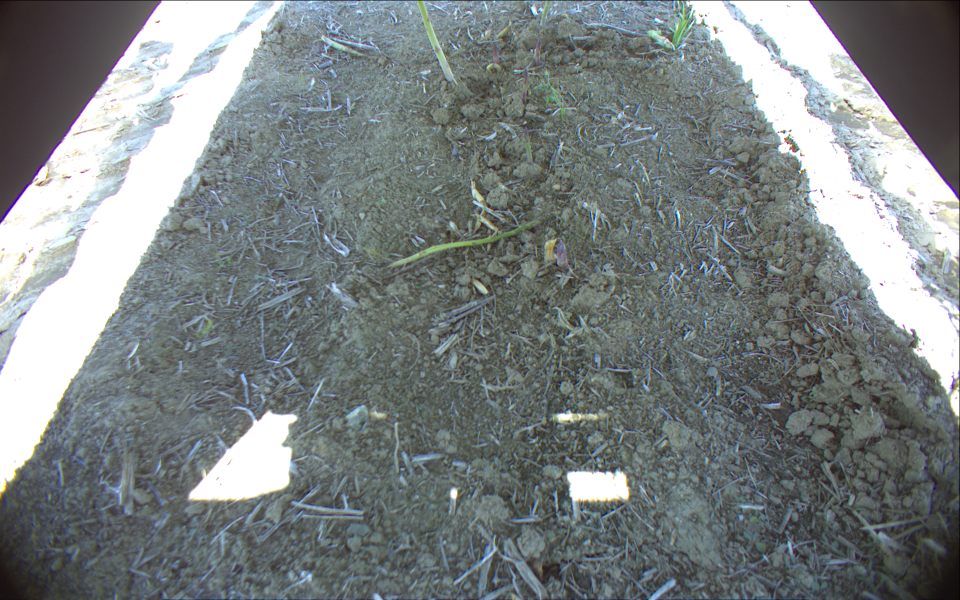aspa: (411, 1, 460, 88)
